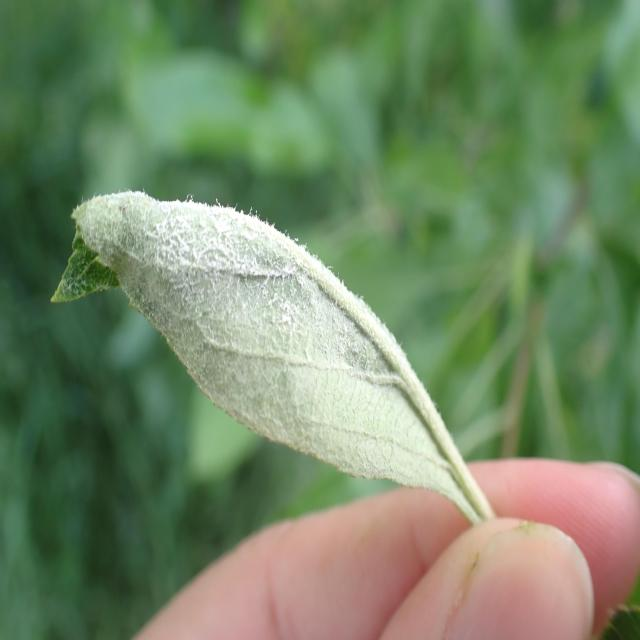Powdery_mildew: (57, 154, 502, 570)
